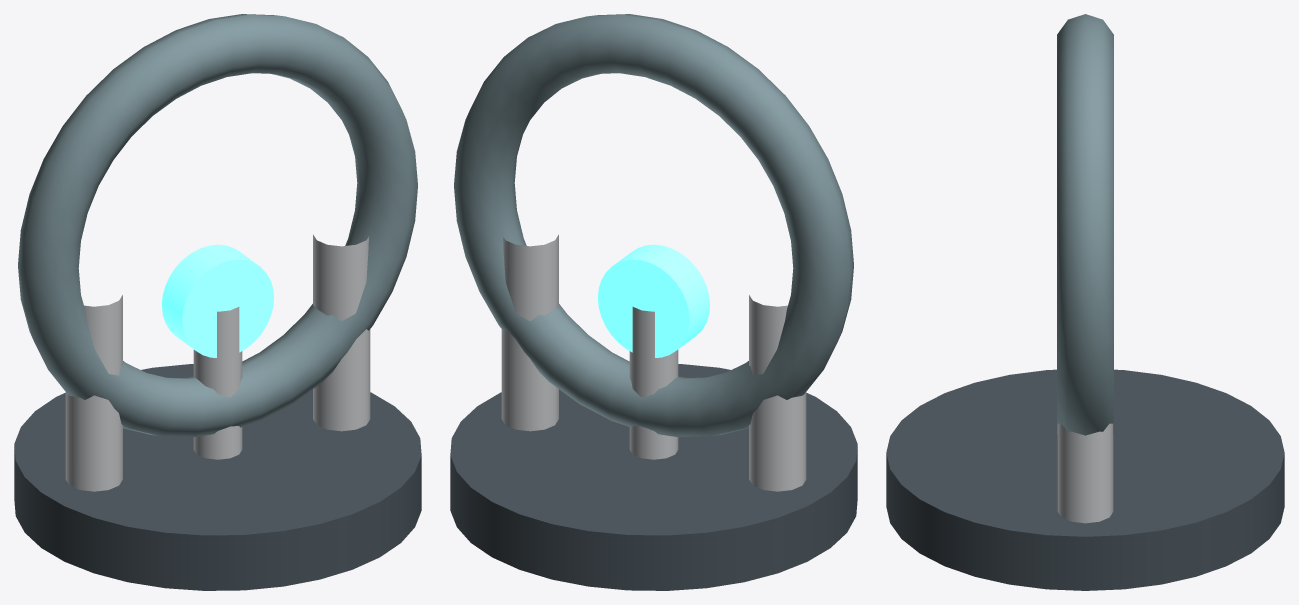
3 views of the same model, side by side, from view 1: azimuth 30°, elevation 25°; view 2: azimuth 150°, elevation 25°; view 3: azimuth 270°, elevation 25° (orthographic). The views are drawn at different scales.
Visible parts, largest first — view 1: tractor-beam; view 2: tractor-beam; view 3: tractor-beam.
Boxes of the visible parts, <box> form: tractor-beam: <box>14,14,421,590</box>; tractor-beam: <box>450,14,857,590</box>; tractor-beam: <box>886,14,1284,590</box>.
Bounding box in the file's own units: 1.11 × 1.31 × 1.
